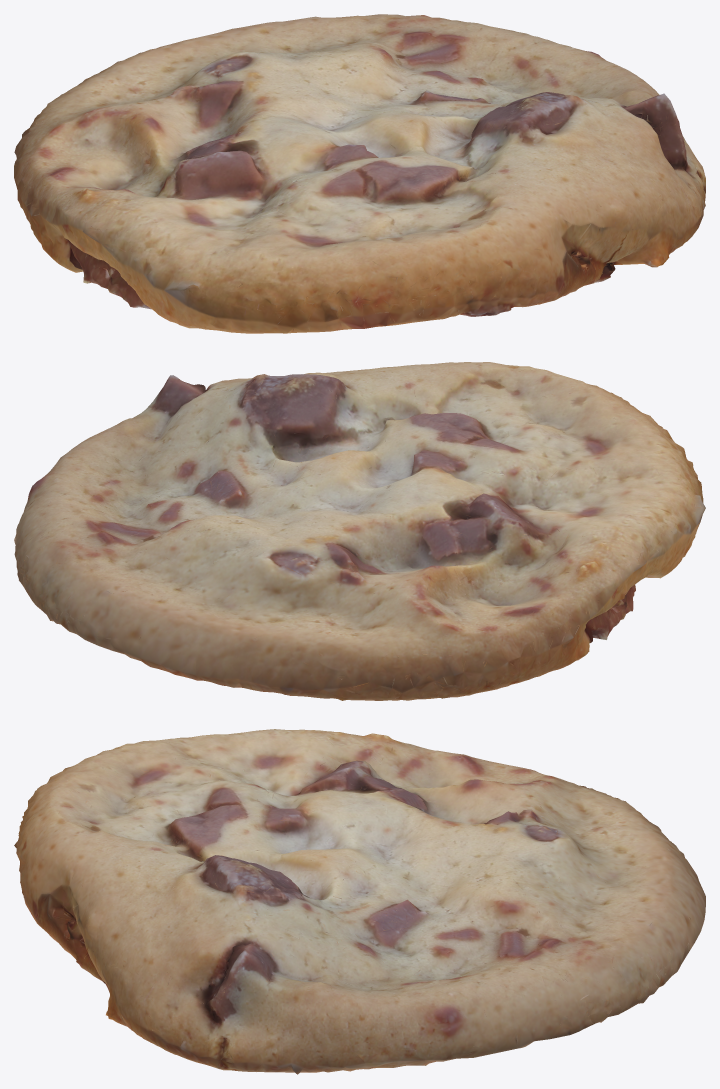
The model's file is burno.glb.
The picture shows the model from 3 angles, top to bottom: view 1: azimuth 30°, elevation 25°; view 2: azimuth 150°, elevation 25°; view 3: azimuth 270°, elevation 25°; orthographic projection. The views are drawn at different scales.
Parts seen in each view (by area): view 1: Object_3; view 2: Object_3; view 3: Object_3.
Part boxes in pixels (x1,y1,x2,y2): Object_3: (14, 14, 705, 333); Object_3: (14, 362, 705, 700); Object_3: (14, 729, 705, 1074).
Size of the model in its own units: 2.64 by 0.5897 by 2.74.
1 material, 1 textured.
